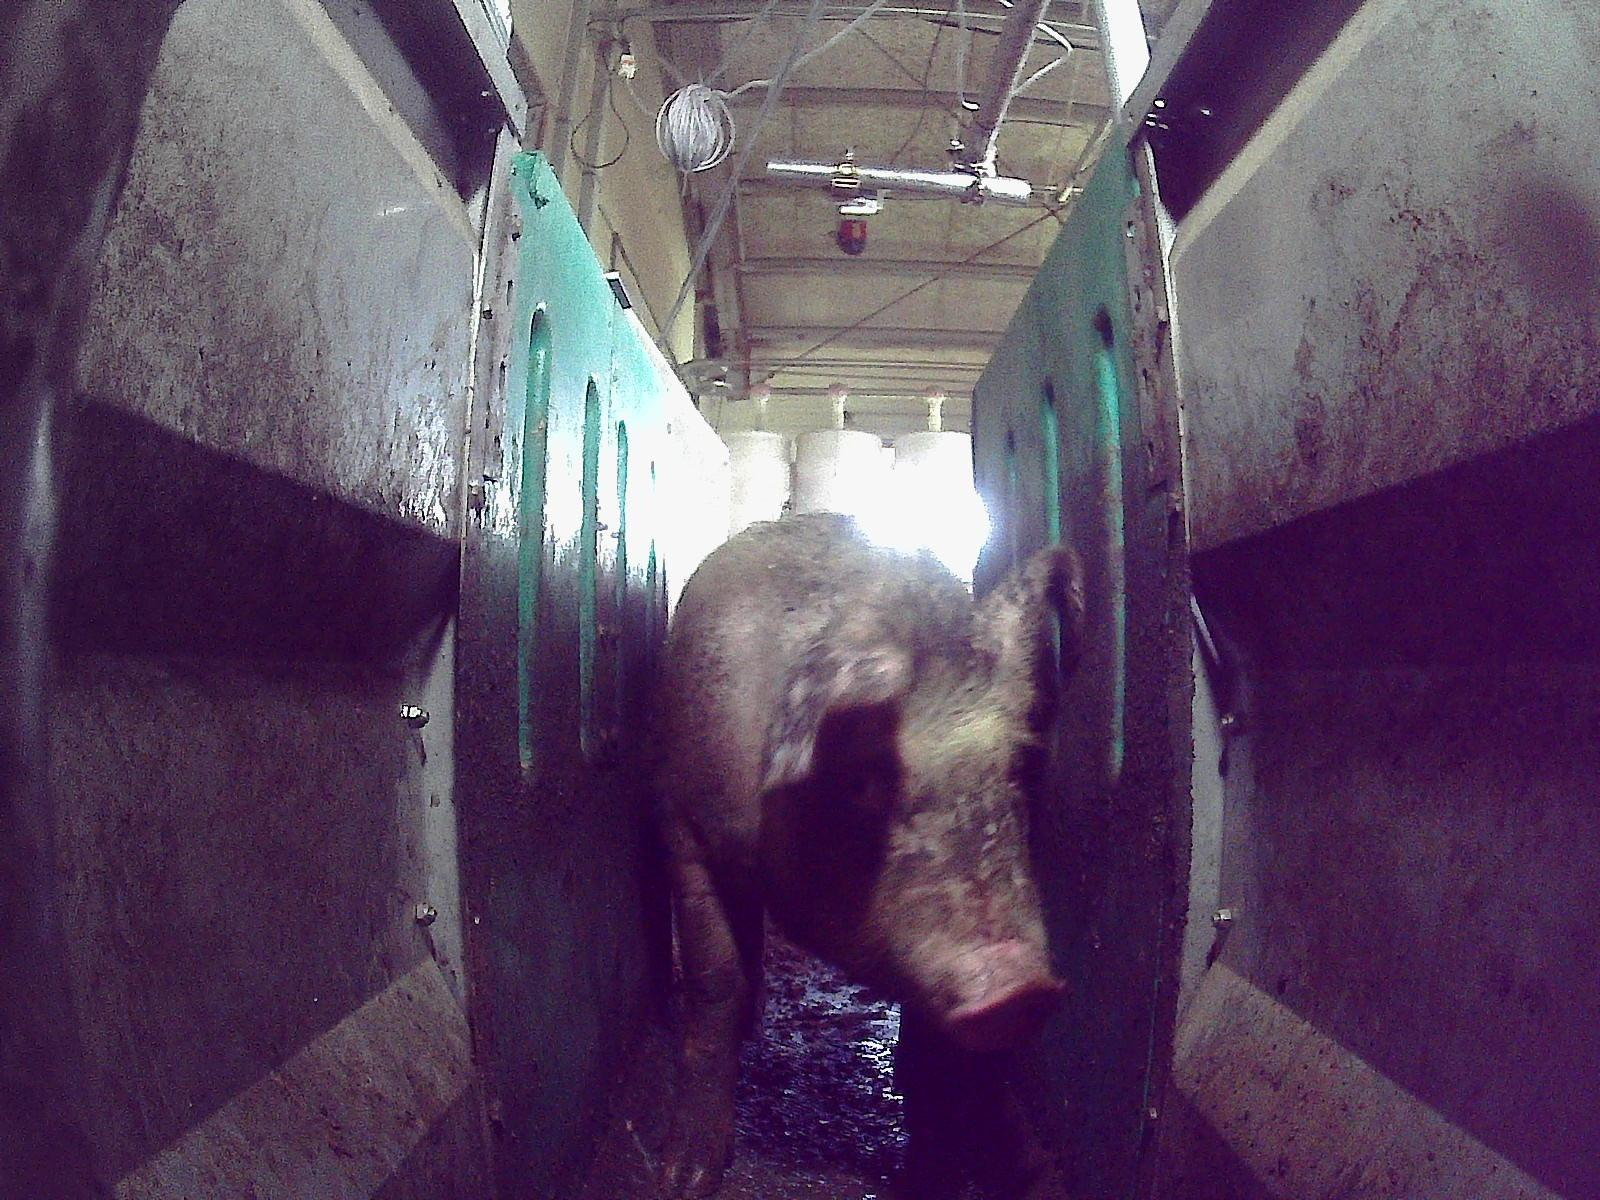Face: (778, 608, 1070, 1049)
